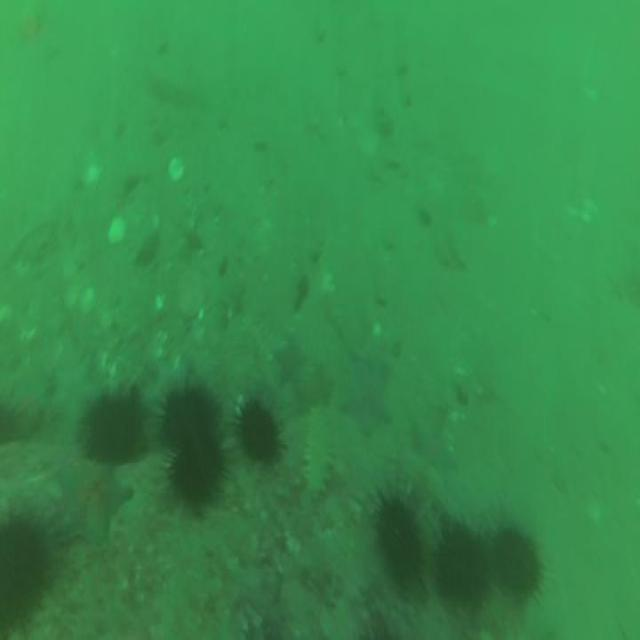echinus: (0, 514, 47, 634), (436, 521, 488, 610), (375, 495, 422, 586), (81, 395, 144, 460), (490, 524, 542, 600), (162, 388, 220, 450), (170, 444, 220, 509), (239, 402, 280, 462)
holothurian: (304, 403, 334, 495)
starfish: (50, 455, 132, 542), (343, 358, 393, 438), (407, 406, 456, 479), (276, 332, 306, 382), (302, 365, 334, 406)
